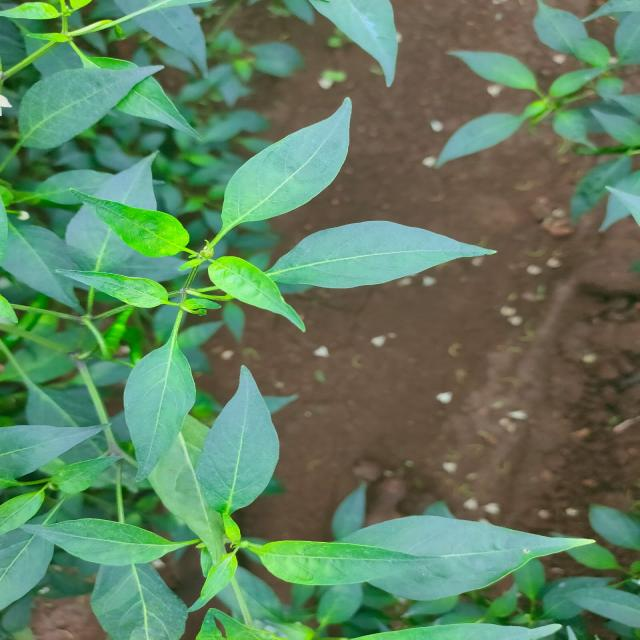Mosaic_virus: (13, 6, 404, 640), (431, 0, 640, 227), (404, 460, 640, 640)
